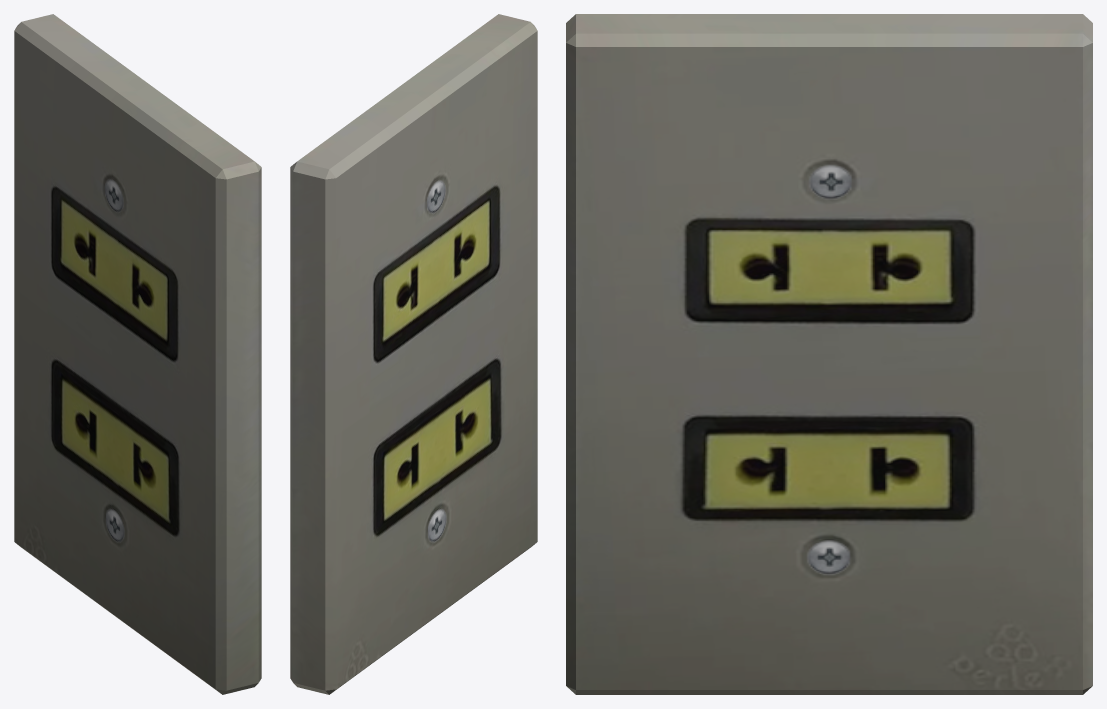
Rendered from omada.fbx.
3 renders of one model, left to right at view 1: azimuth 30°, elevation 25°; view 2: azimuth 150°, elevation 25°; view 3: azimuth 270°, elevation 25°, orthographic. The views are drawn at different scales.
Parts seen in each view (by area): view 1: pCube1; view 2: pCube1; view 3: pCube1.
Part boxes in pixels (x1,y1,x2,y2): pCube1: (14,14,261,694); pCube1: (290,14,537,694); pCube1: (566,14,1092,694).
Bounding box in the file's own units: 0.1267 × 1.38 × 1.
1 material, 1 textured.
